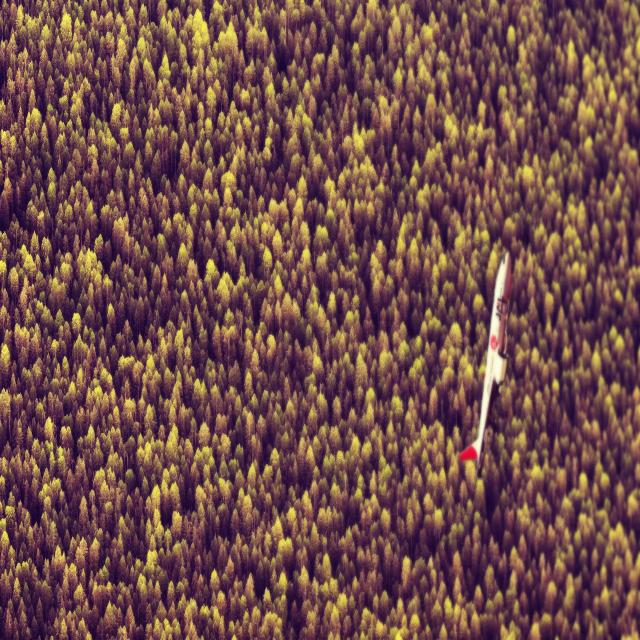airplane: (459, 250, 512, 477)
